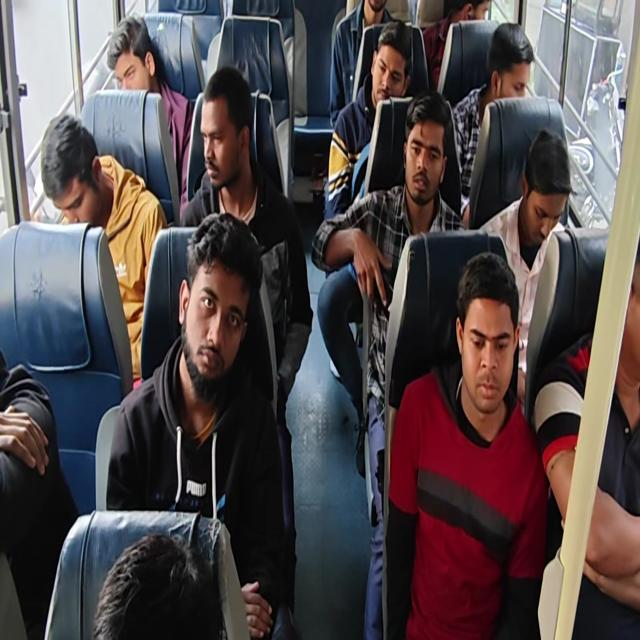person: (2, 1, 638, 638), (313, 88, 467, 638), (105, 210, 286, 638), (382, 251, 548, 638), (179, 64, 313, 420), (533, 233, 639, 638), (40, 113, 168, 389), (478, 126, 572, 403), (0, 346, 79, 638), (326, 19, 413, 220), (450, 21, 534, 224), (106, 13, 194, 204), (92, 531, 226, 639), (328, 0, 397, 129), (422, 0, 490, 91)
